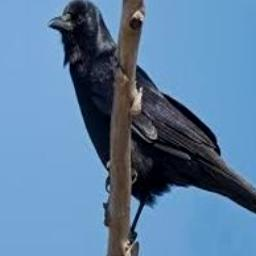Crow: (49, 0, 256, 231)
